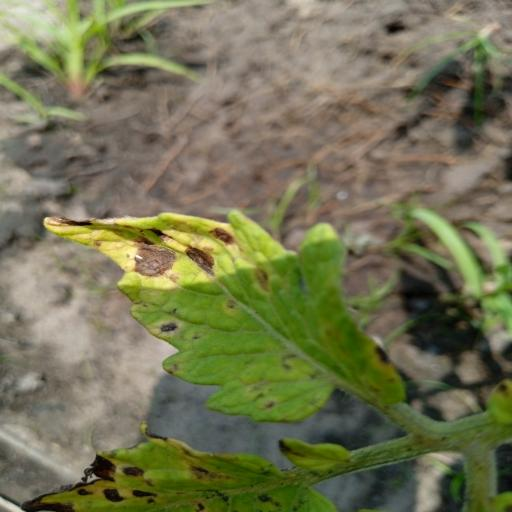Tomato_Brown_Spots: (34, 202, 434, 426)
